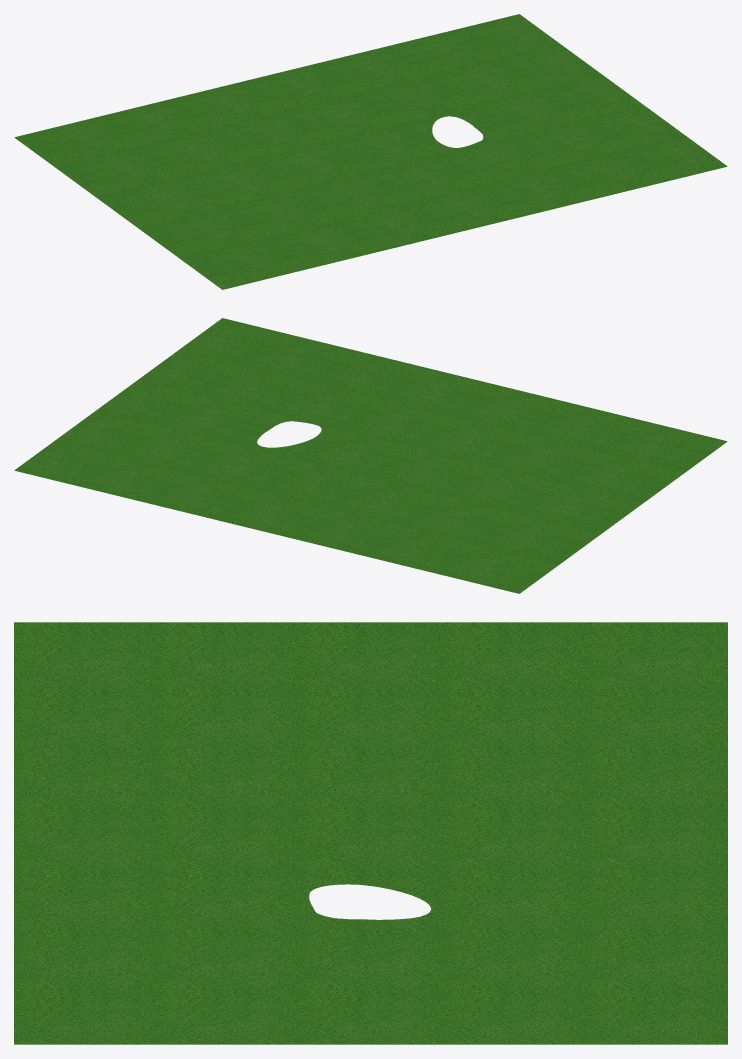
File: cource05grassF.obj
The picture shows the model from 3 angles, top to bottom: view 1: azimuth 30°, elevation 25°; view 2: azimuth 150°, elevation 25°; view 3: azimuth 270°, elevation 25°; orthographic projection. The views are drawn at different scales.
Size of the model in its own units: 2800 by 0 by 2000.
